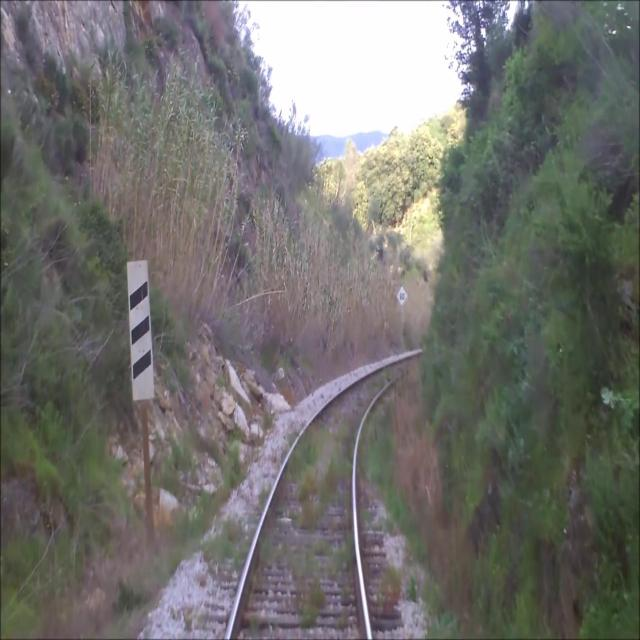rail-track: (230, 356, 423, 639)
